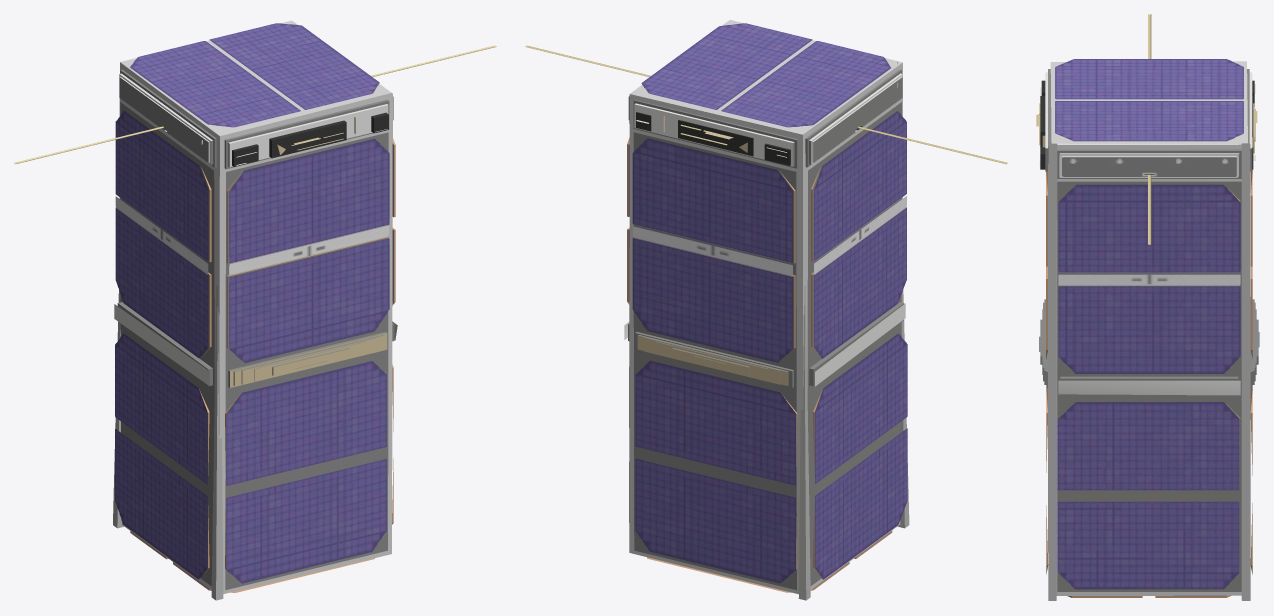
3 renders of one model, left to right at view 1: azimuth 30°, elevation 25°; view 2: azimuth 150°, elevation 25°; view 3: azimuth 270°, elevation 25°, orthographic.
Parts seen in each view (by area): view 1: Layer_0; view 2: Layer_0; view 3: Layer_0.
Part boxes in pixels (x1=…): Layer_0: x1=14, y1=20, x2=496, y2=600; Layer_0: x1=525, y1=19, x2=1007, y2=600; Layer_0: x1=1036, y1=14, x2=1259, y2=600.
Bounding box in the file's own units: 5.39 × 5 × 2.21.
Materials: 11 (1 with a texture image).
